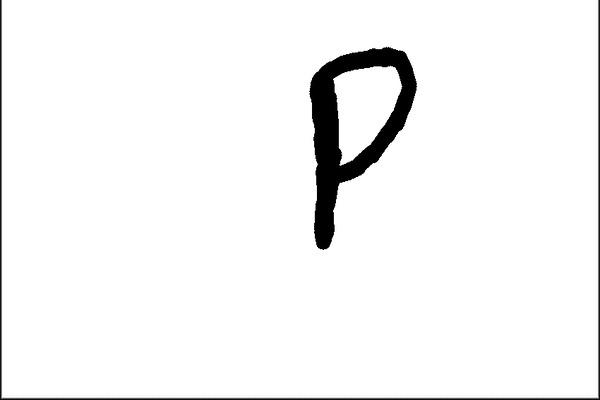P: (301, 45, 427, 256)
